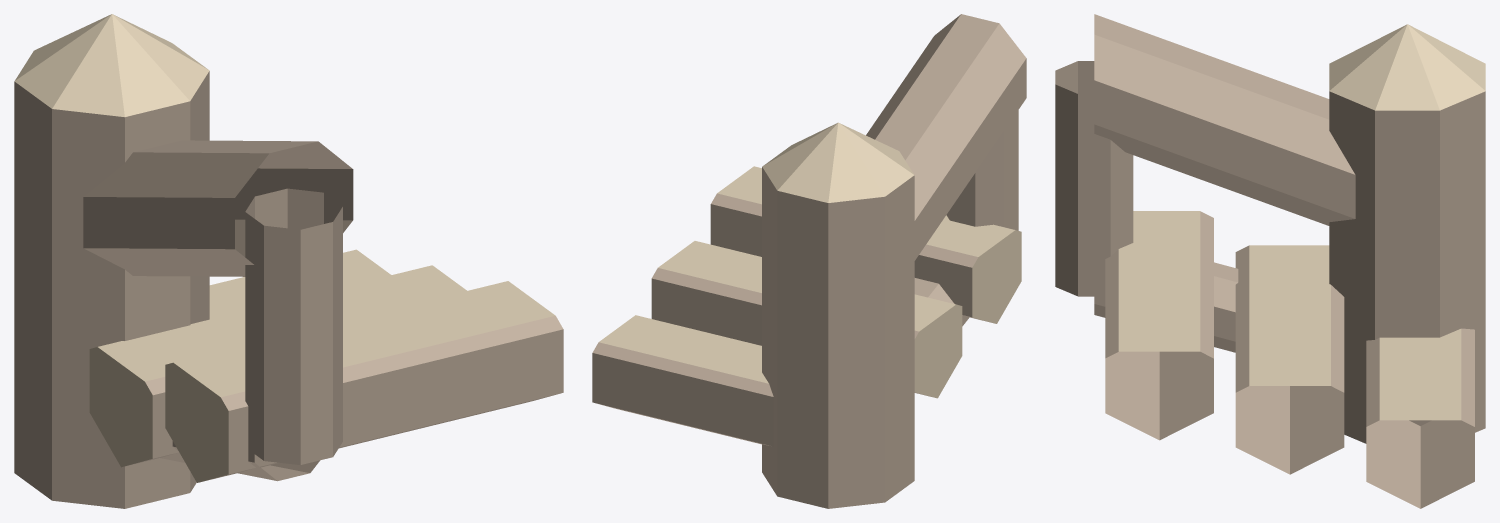
The model's file is Hilly_Prop_Bridge_Log_End_Edge.glb.
3 views of the same model, side by side, from view 1: azimuth 30°, elevation 25°; view 2: azimuth 150°, elevation 25°; view 3: azimuth 270°, elevation 25° (orthographic). The views are drawn at different scales.
Parts seen in each view (by area): view 1: Hilly_Prop_Bridge_Log_End_Edge; view 2: Hilly_Prop_Bridge_Log_End_Edge; view 3: Hilly_Prop_Bridge_Log_End_Edge.
Part boxes in pixels (x1,y1,x2,y2): Hilly_Prop_Bridge_Log_End_Edge: (14,14,563,508); Hilly_Prop_Bridge_Log_End_Edge: (592,14,1026,508); Hilly_Prop_Bridge_Log_End_Edge: (1055,14,1485,508).
Size of the model in its own units: 0.477 by 0.583 by 0.583.
